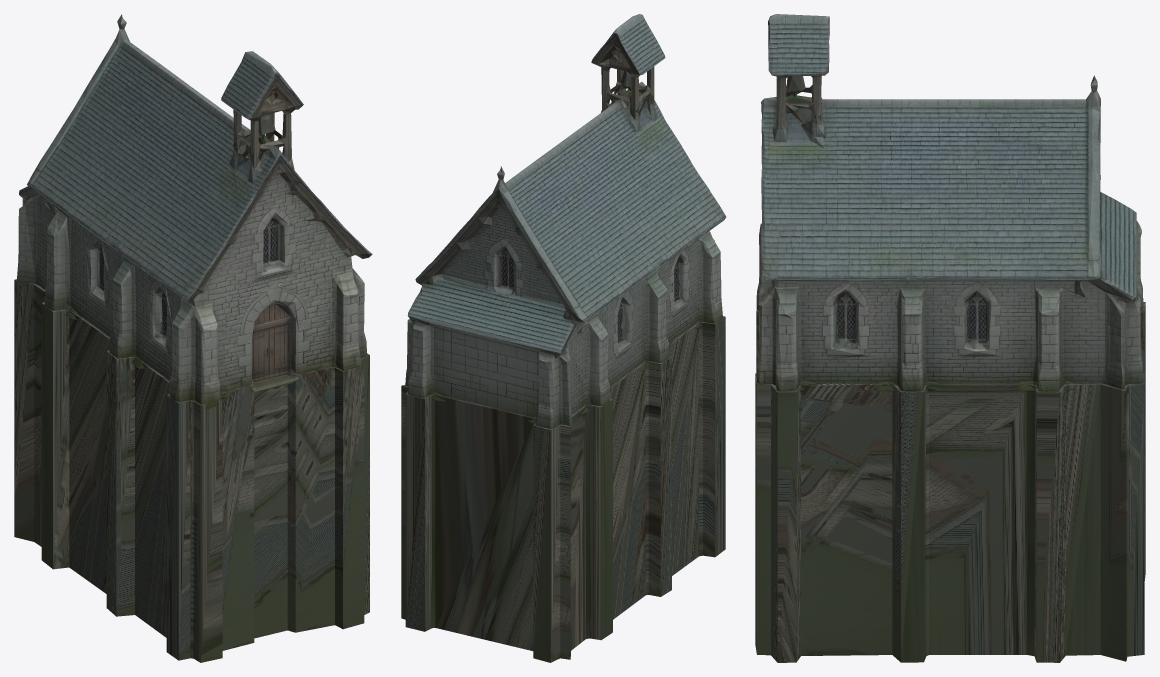
The model's file is chapel.glb.
3 views of the same model, side by side, from view 1: azimuth 30°, elevation 25°; view 2: azimuth 150°, elevation 25°; view 3: azimuth 270°, elevation 25° (orthographic). The views are drawn at different scales.
Parts seen in each view (by area): view 1: chapel_export; view 2: chapel_export; view 3: chapel_export.
Boxes of the visible parts, x1,y1,x2,y2 form: chapel_export: (14,14,372,662); chapel_export: (401,14,726,662); chapel_export: (755,14,1145,662).
Bounding box in the file's own units: 14.51 × 40.57 × 24.
Materials: 2 (2 with a texture image).
